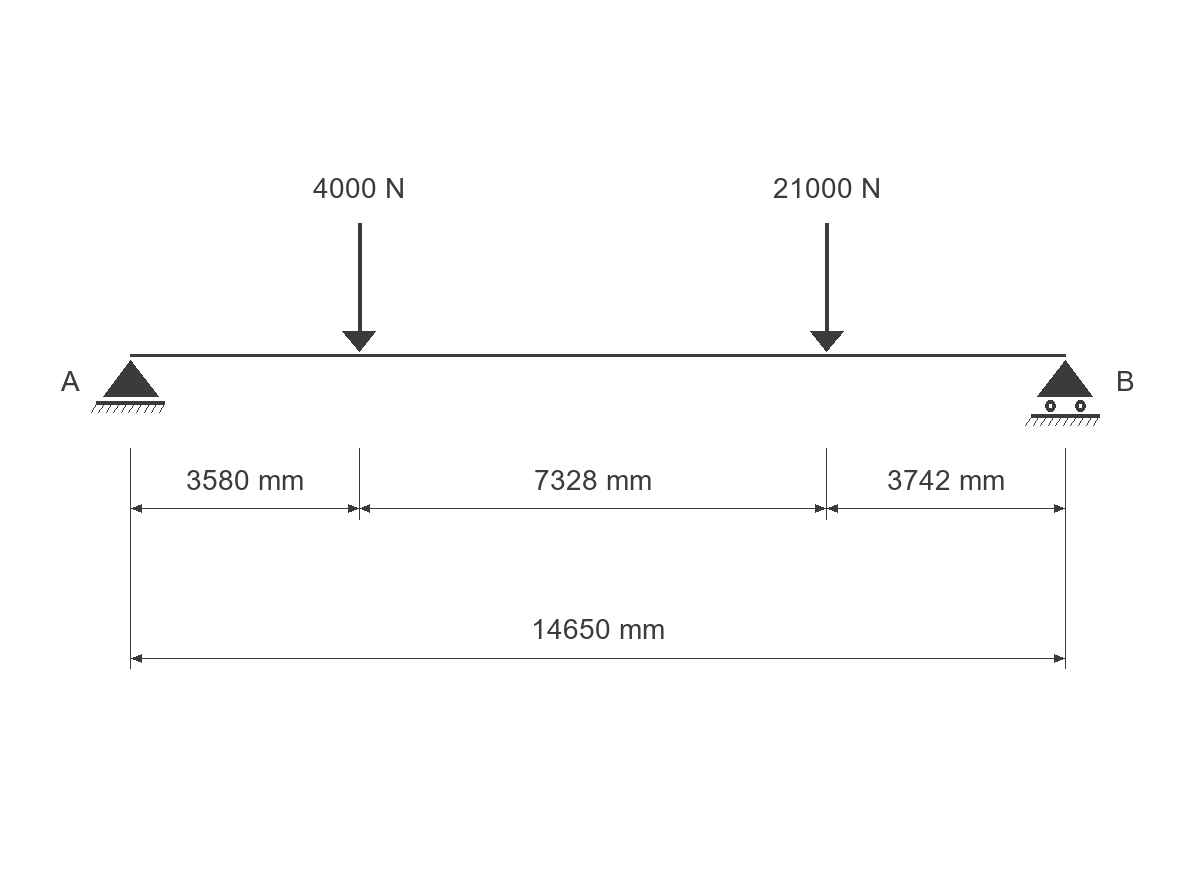pin_support: (91, 360, 165, 413)
point_load: (342, 223, 376, 352), (810, 223, 844, 352)
roller_support: (1025, 360, 1100, 426)
